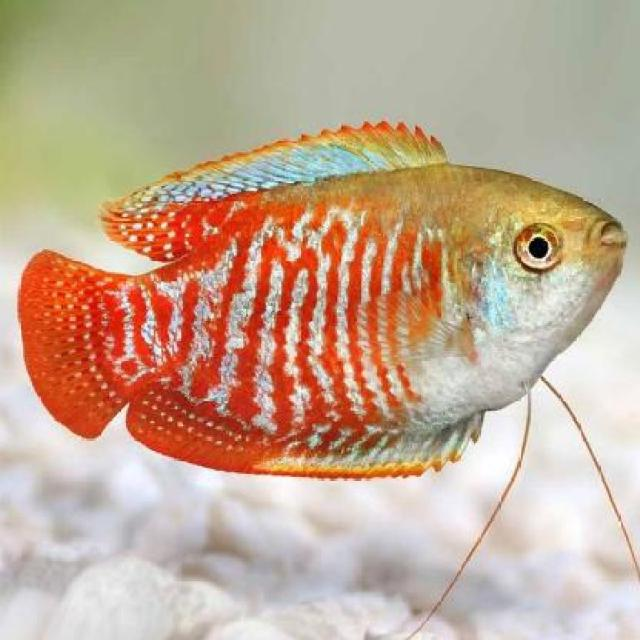Gourami: (18, 118, 631, 479)
